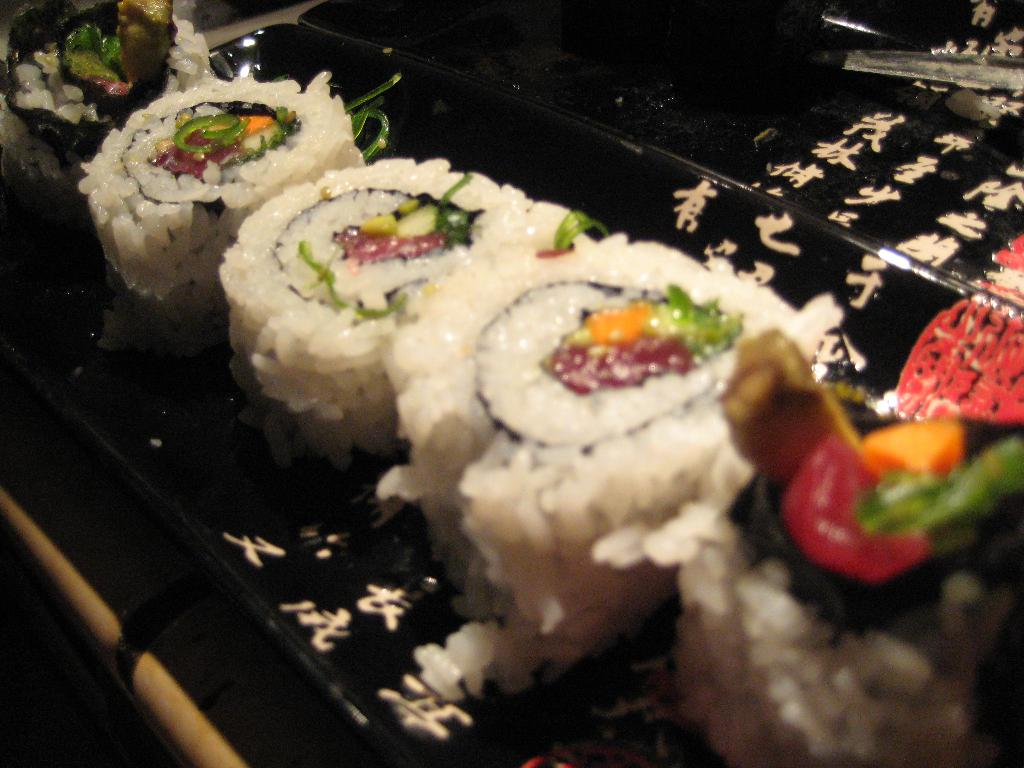sushi: (0, 0, 1020, 767), (196, 147, 772, 504)
